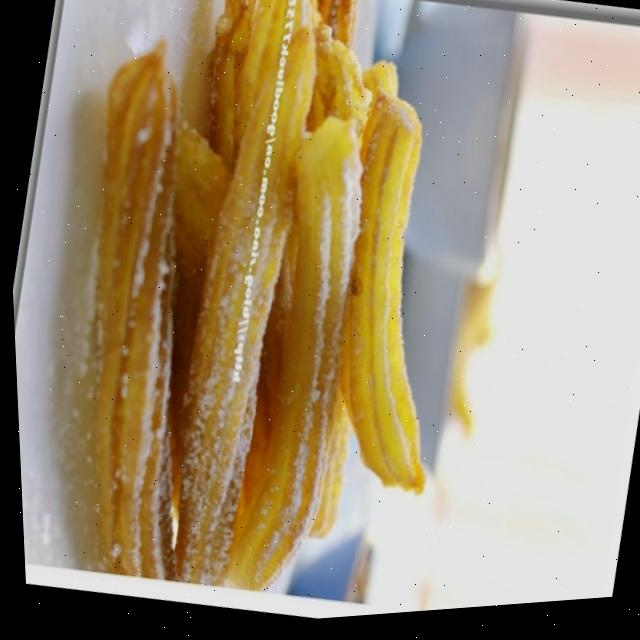炸货点心: (11, 0, 516, 610)
